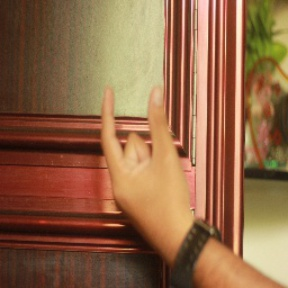U: (82, 76, 182, 212)
